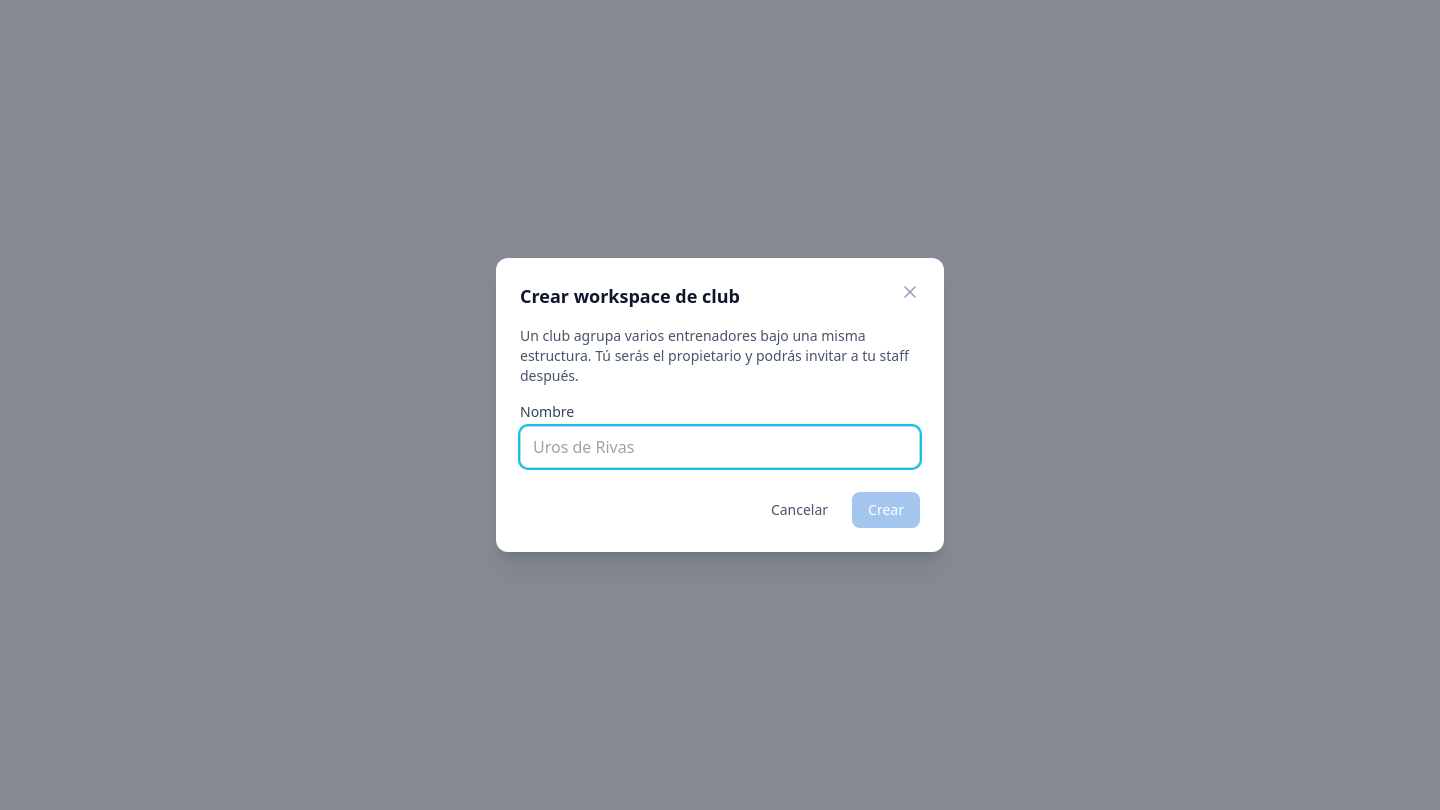
CrearClubModal › shows error message on permission-denied
Type "X" into the field labelled "Nombre".
click(720, 447); type("X")  # box [520,426,920,468]
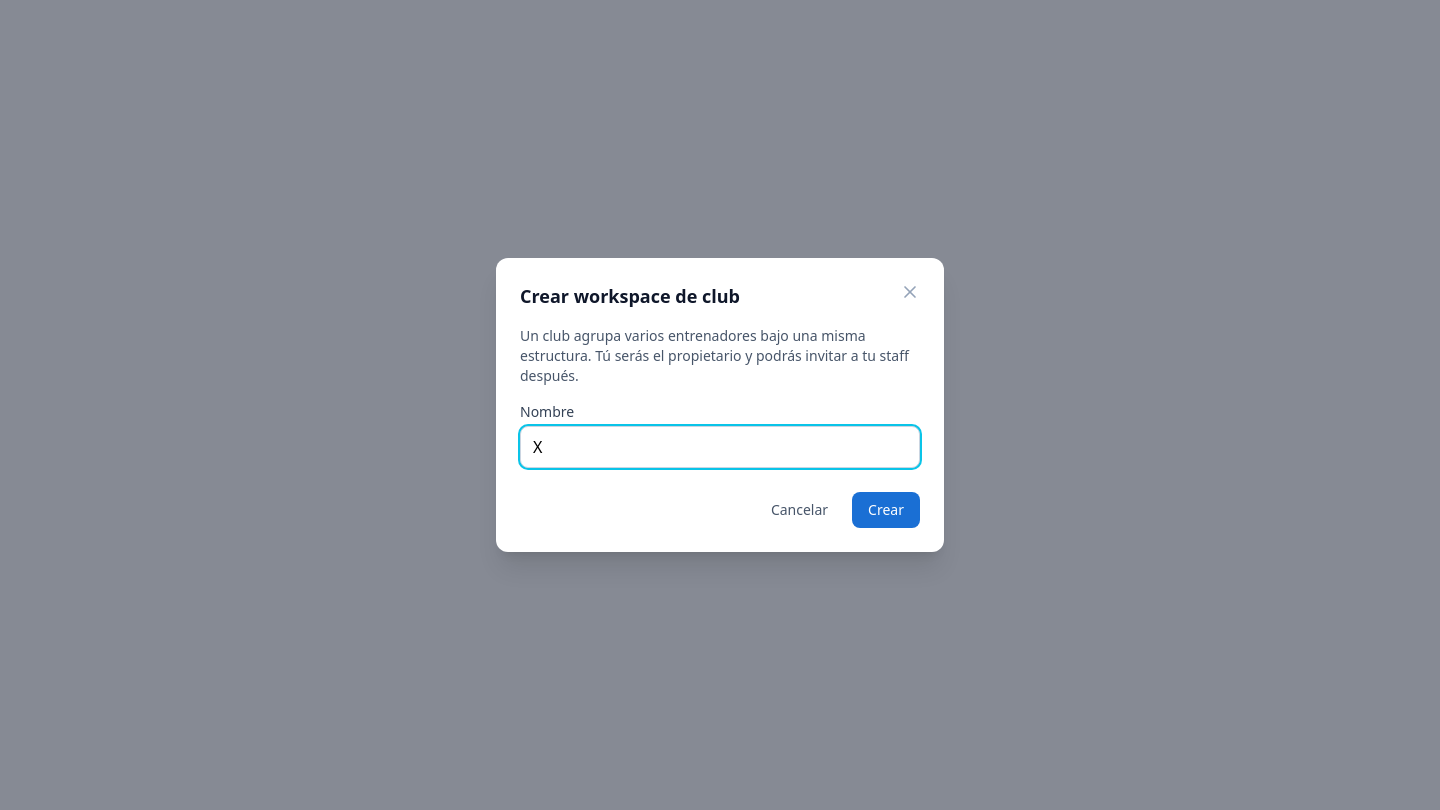
Click the button "Crear".
click(886, 510)  # box [852,492,920,528]
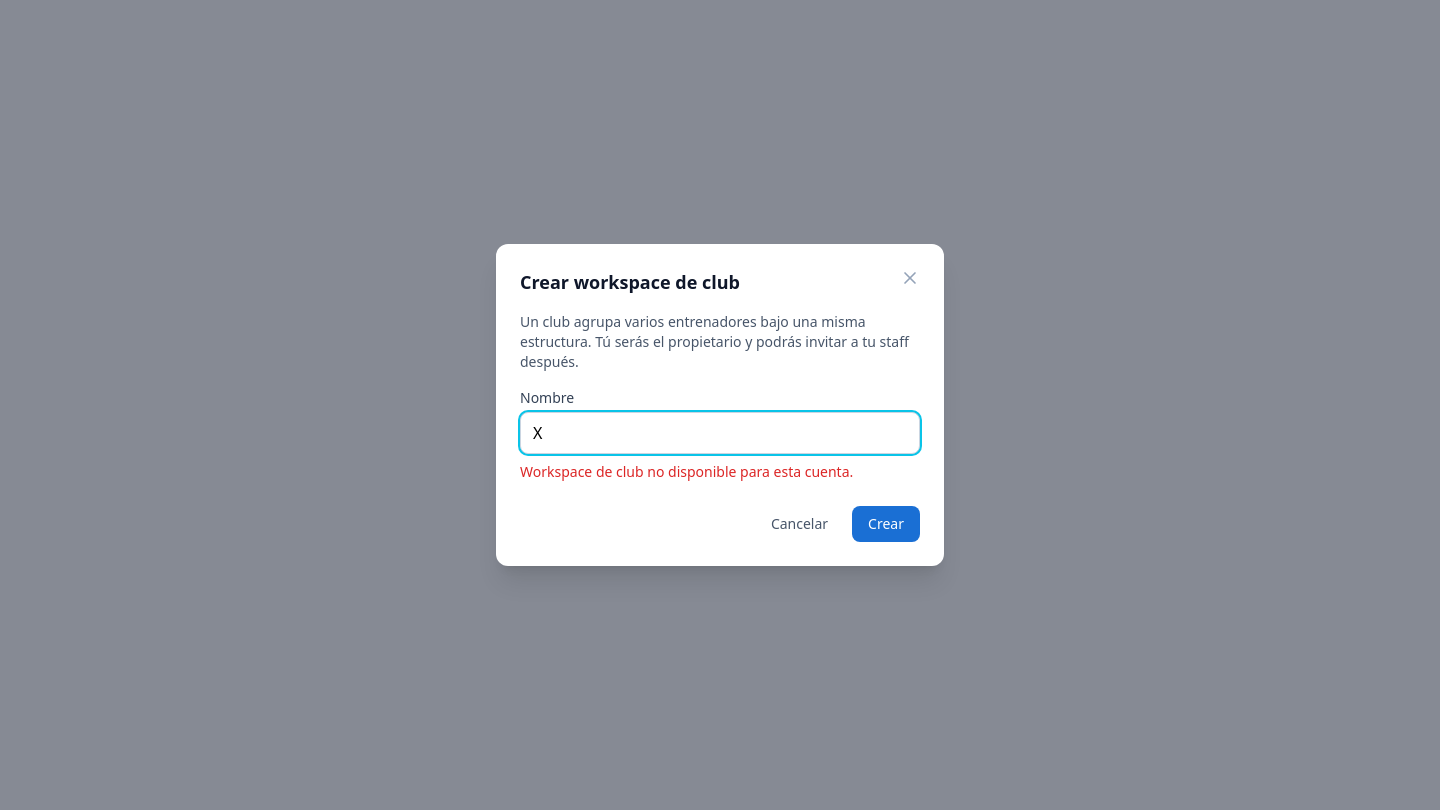
Expected: the text "Workspace de club no disponible para esta cuenta." is shown, [520,462,853,481]
